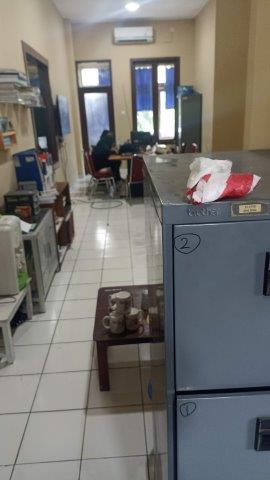plastik: (185, 154, 261, 206)
